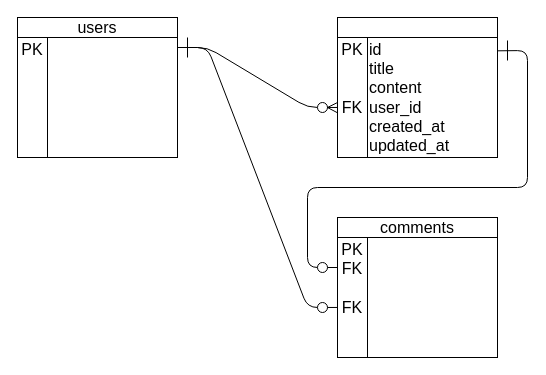
The diagram is 546 pixels wide and 375 high, and some of its shapes have lost their labels. Each missing label, with the centre of its shape:
id name email password_digest created_at updated_at: [112,97]
id technology_id content user_id created_at updated_at: [432,297]
technologies: [417,27]
